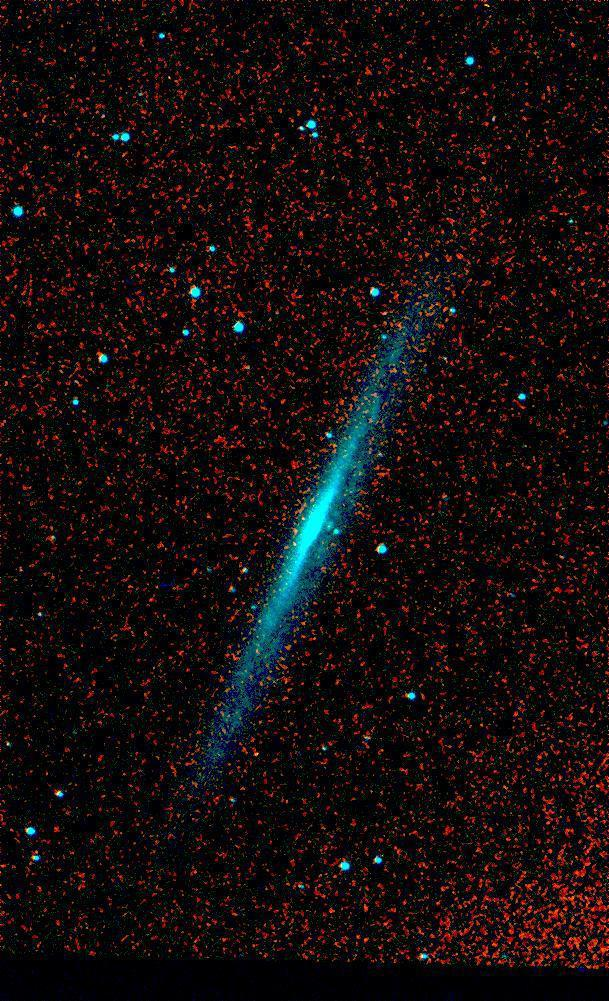star: (384, 355, 414, 385)
